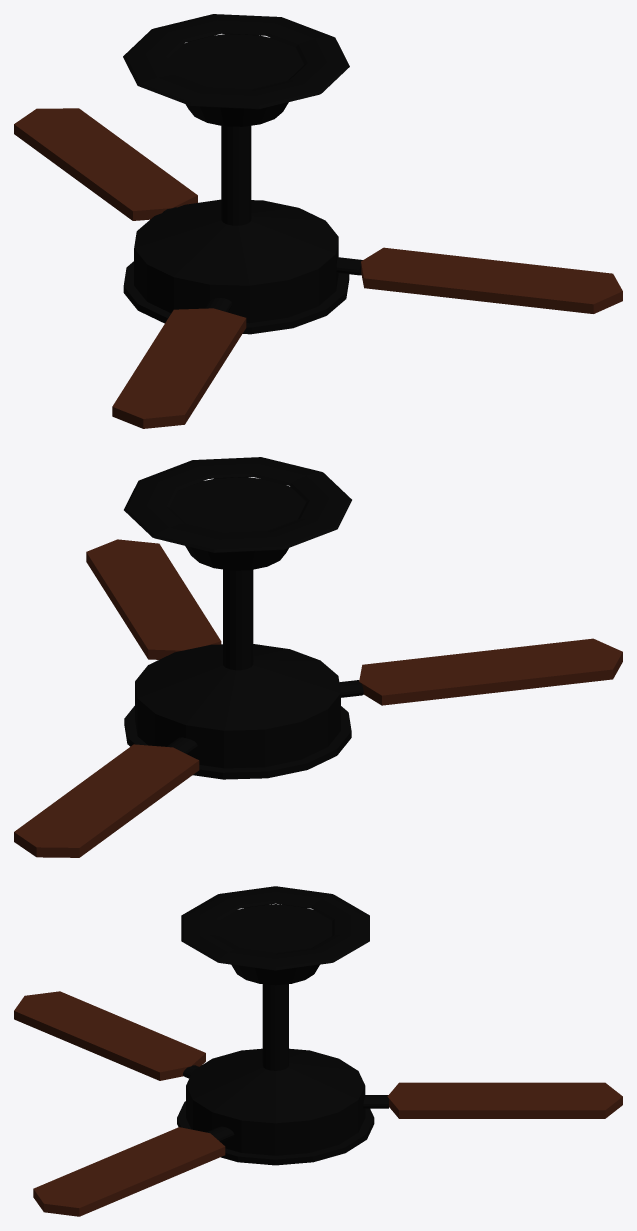
The model's file is VentiladorDeTeto.fbx.
3 views of the same model, one above another, from view 1: azimuth 30°, elevation 25°; view 2: azimuth 150°, elevation 25°; view 3: azimuth 270°, elevation 25° (orthographic). The views are drawn at different scales.
Visible parts, largest first — view 1: Ventilador; view 2: Ventilador; view 3: Ventilador.
Part boxes in pixels (<box>): Ventilador: <box>14,14,622,428</box>; Ventilador: <box>14,457,622,857</box>; Ventilador: <box>14,886,622,1216</box>.
Bounding box in the file's own units: 277 × 118 × 328.
